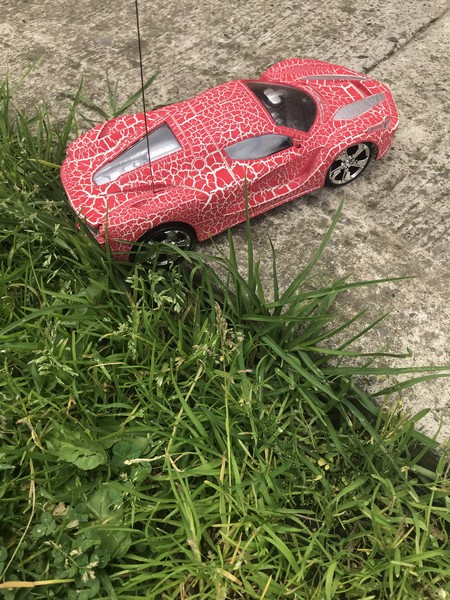RC: (58, 54, 401, 269)
